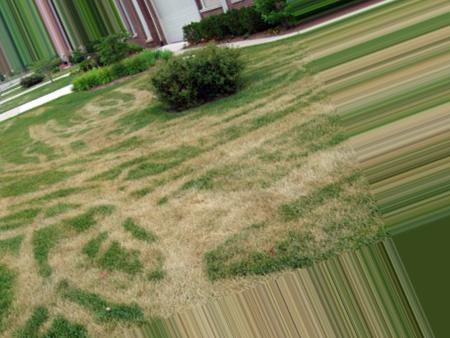patch: (9, 199, 123, 314), (236, 135, 355, 207), (137, 185, 217, 278), (83, 96, 194, 155), (23, 137, 133, 188)
